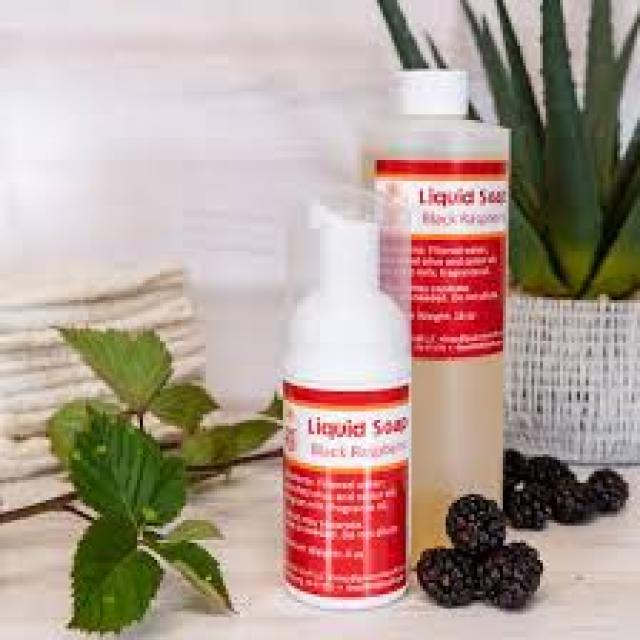liquid soap: (361, 55, 504, 547), (292, 192, 416, 604)
